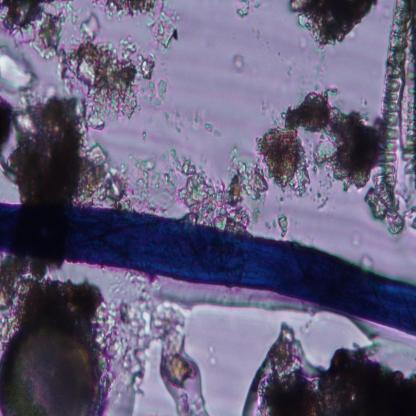Air bubble: (0, 52, 36, 91)
Background material: (244, 320, 416, 414), (132, 137, 270, 234), (0, 96, 122, 204), (261, 89, 379, 189), (0, 254, 107, 343), (93, 284, 163, 384), (60, 43, 153, 117), (146, 301, 200, 387), (284, 2, 379, 48), (0, 1, 69, 61), (92, 0, 178, 44), (145, 74, 170, 110), (190, 108, 219, 139), (159, 102, 185, 136), (73, 13, 104, 41), (230, 0, 266, 21), (246, 24, 271, 49), (271, 210, 292, 238), (313, 44, 329, 78), (65, 2, 86, 23), (359, 249, 376, 272), (232, 52, 249, 74), (349, 229, 364, 250), (318, 196, 329, 214), (140, 130, 149, 143)
Cotton: (0, 202, 416, 337)
Diatom: (367, 0, 416, 231), (0, 317, 102, 416)
